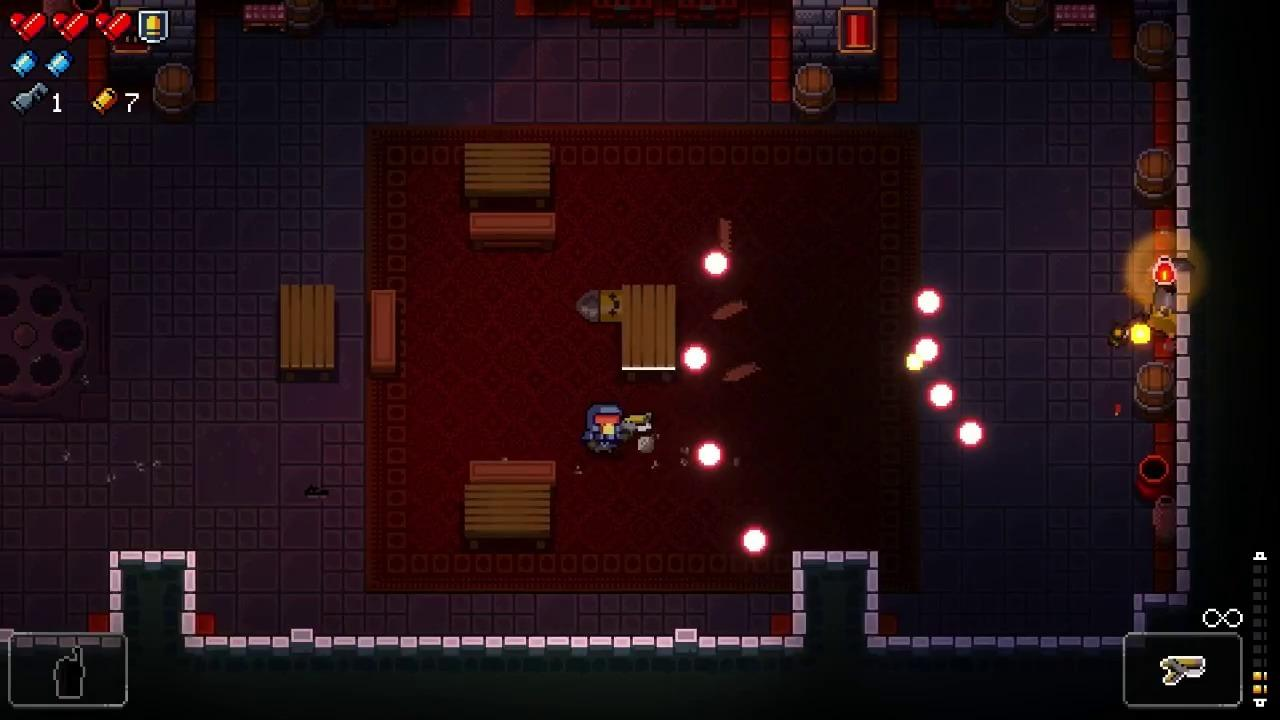bullet: (911, 334, 942, 367), (955, 418, 986, 450), (913, 287, 944, 318), (701, 247, 731, 279), (926, 380, 956, 411), (681, 343, 710, 374), (694, 441, 725, 470), (740, 526, 769, 556)
dead_bullet_kin: (577, 290, 621, 323)
player: (586, 405, 624, 457)
table: (466, 142, 551, 209), (464, 484, 550, 550), (280, 284, 335, 381), (621, 285, 675, 382)
teleporter: (0, 251, 110, 420)
